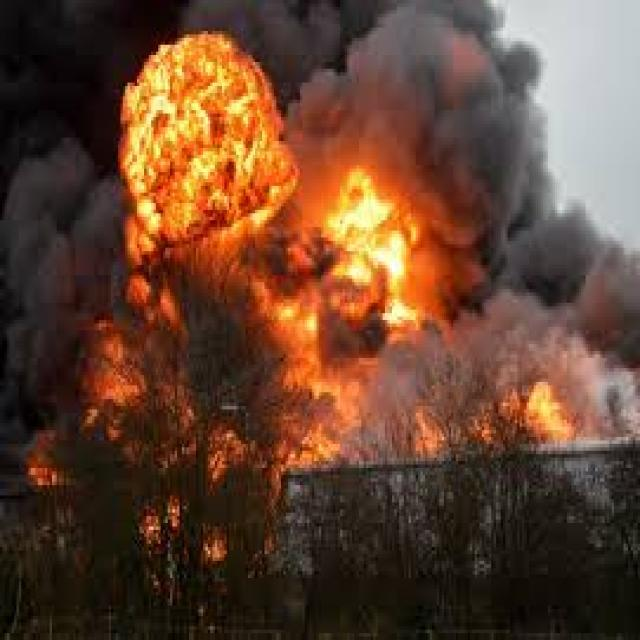fire: (88, 17, 442, 513), (526, 378, 578, 437)
